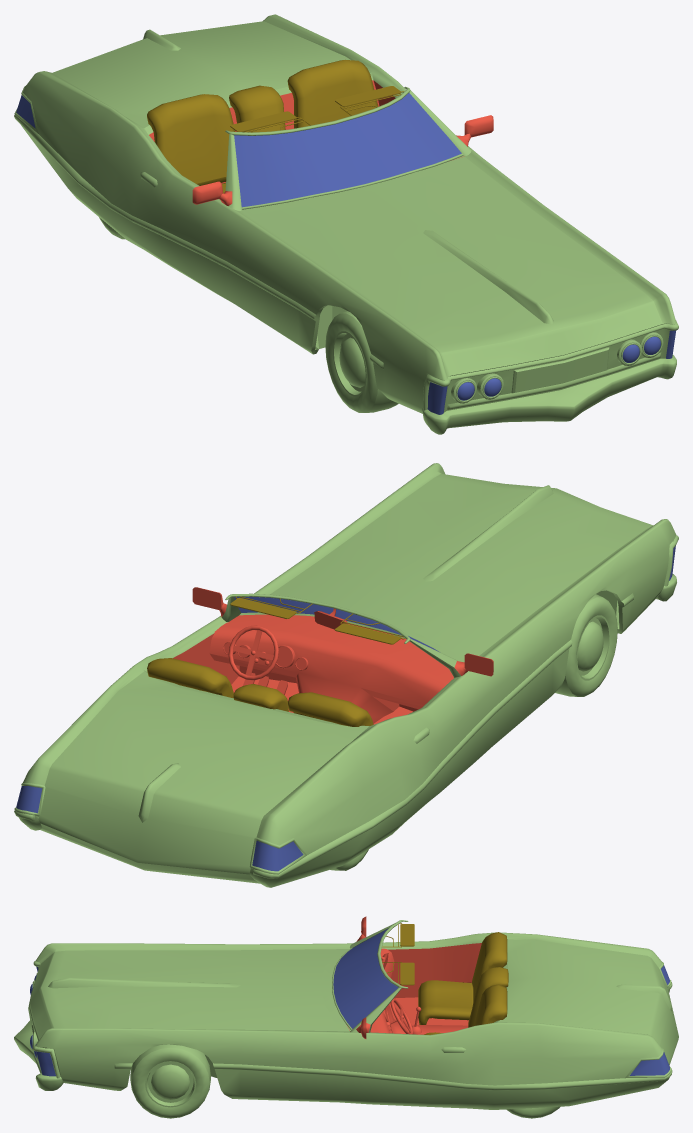
The model's file is car sedan.FBX.
The picture shows the model from 3 angles, top to bottom: view 1: azimuth 30°, elevation 25°; view 2: azimuth 150°, elevation 25°; view 3: azimuth 270°, elevation 25°; orthographic projection. The views are drawn at different scales.
Visible parts, largest first — view 1: Group004, Box062, Cylinder011, Group006, Group005; view 2: Group004, Group006, Box062, Cylinder011, Group005; view 3: Group004, Group006, Box062, Cylinder009, Group005, Cylinder010.
Part boxes in pixels (x1,y1,x2,y2): Group004: (14,14,678,434); Box062: (147,59,404,193); Cylinder011: (325,310,398,412); Group006: (149,80,493,205); Group005: (230,86,401,131); Group004: (14,463,678,887); Group006: (173,587,493,724); Box062: (147,596,405,726); Cylinder011: (555,594,617,696); Group005: (230,598,401,644); Group004: (14,920,678,1109); Group006: (347,916,481,1038); Box062: (382,923,508,1034); Cylinder009: (130,1044,210,1118); Group005: (400,924,414,985); Cylinder010: (506,1106,560,1118).
Bounding box in the file's own units: 3.52 × 1.8 × 8.88.
